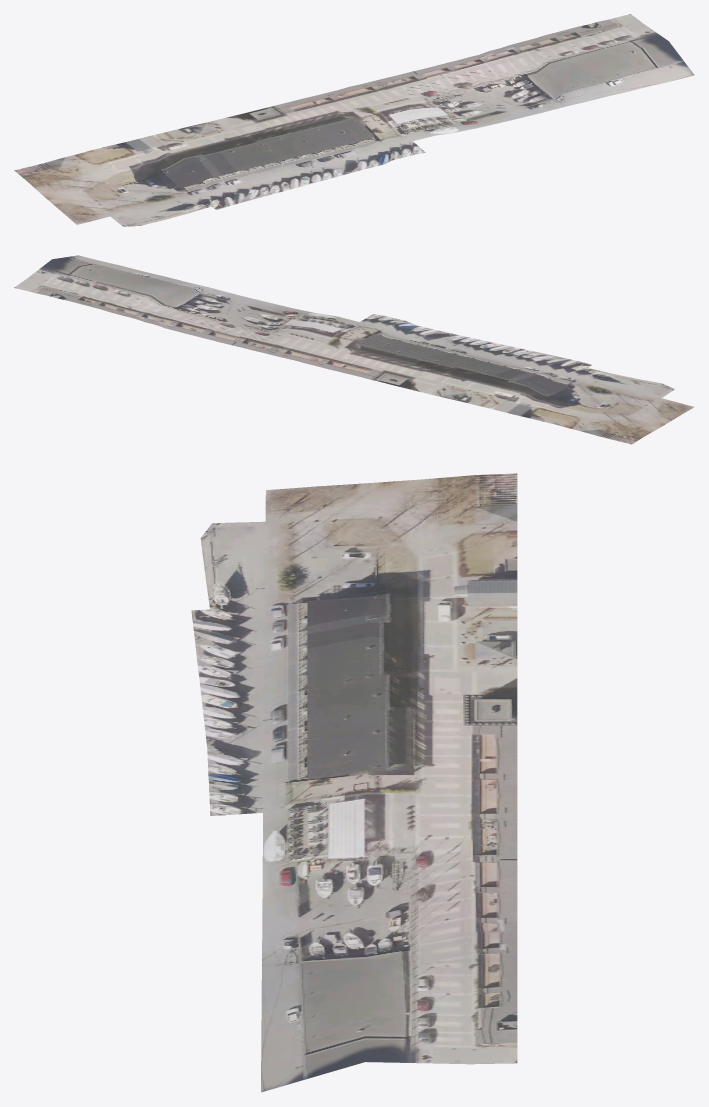
Rendered from CM_Terrain_24487797_6822251.fbx.
3 views of the same model, one above another, from view 1: azimuth 30°, elevation 25°; view 2: azimuth 150°, elevation 25°; view 3: azimuth 270°, elevation 25° (orthographic). The views are drawn at different scales.
Visible parts, largest first — view 1: CM_Terrain_24487797_6822251_LOD0; view 2: CM_Terrain_24487797_6822251_LOD0; view 3: CM_Terrain_24487797_6822251_LOD0.
Boxes of the visible parts, x1,y1,x2,y2 form: CM_Terrain_24487797_6822251_LOD0: (14,14,694,226); CM_Terrain_24487797_6822251_LOD0: (14,255,694,444); CM_Terrain_24487797_6822251_LOD0: (191,473,517,1092).
Size of what is drawn, in the model's own units: 205 by 5.21 by 46.83.
